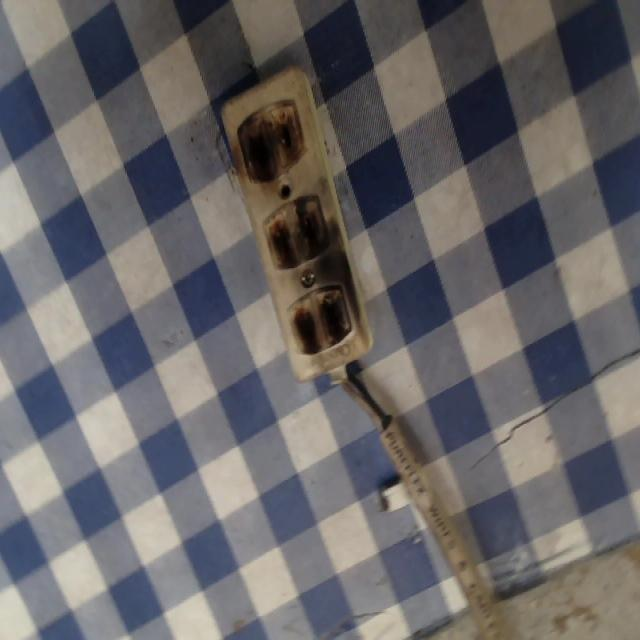-: (233, 100, 308, 177), (280, 286, 357, 358), (261, 202, 331, 266)
